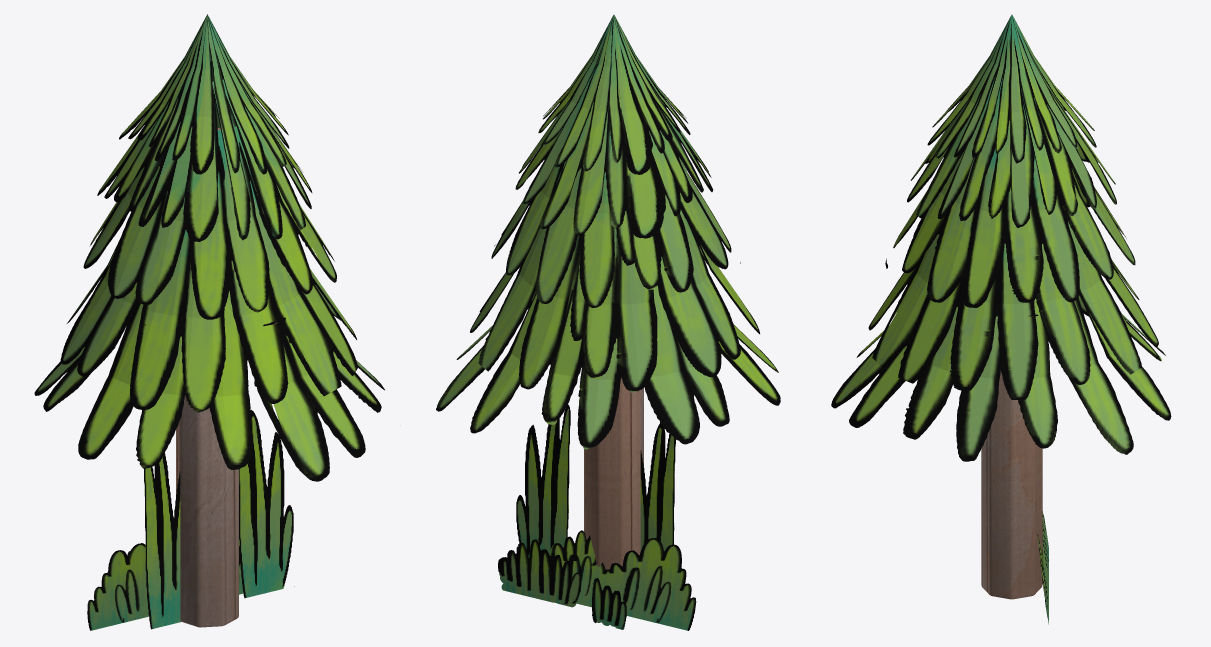
File: FOREST_WALL_1_003.obj
3 views of the same model, side by side, from view 1: azimuth 30°, elevation 25°; view 2: azimuth 150°, elevation 25°; view 3: azimuth 270°, elevation 25° (orthographic). The views are drawn at different scales.
Parts seen in each view (by area): view 1: FOREST_WALL_1_003; view 2: FOREST_WALL_1_003; view 3: FOREST_WALL_1_003.
Boxes of the visible parts, x1,y1,x2,y2 form: FOREST_WALL_1_003: [34, 14, 384, 630]; FOREST_WALL_1_003: [436, 14, 780, 630]; FOREST_WALL_1_003: [831, 14, 1171, 624].
Bounding box in the file's own units: 2.21 × 3.83 × 2.21.
